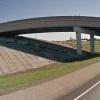Bridge: (4, 10, 98, 46)
